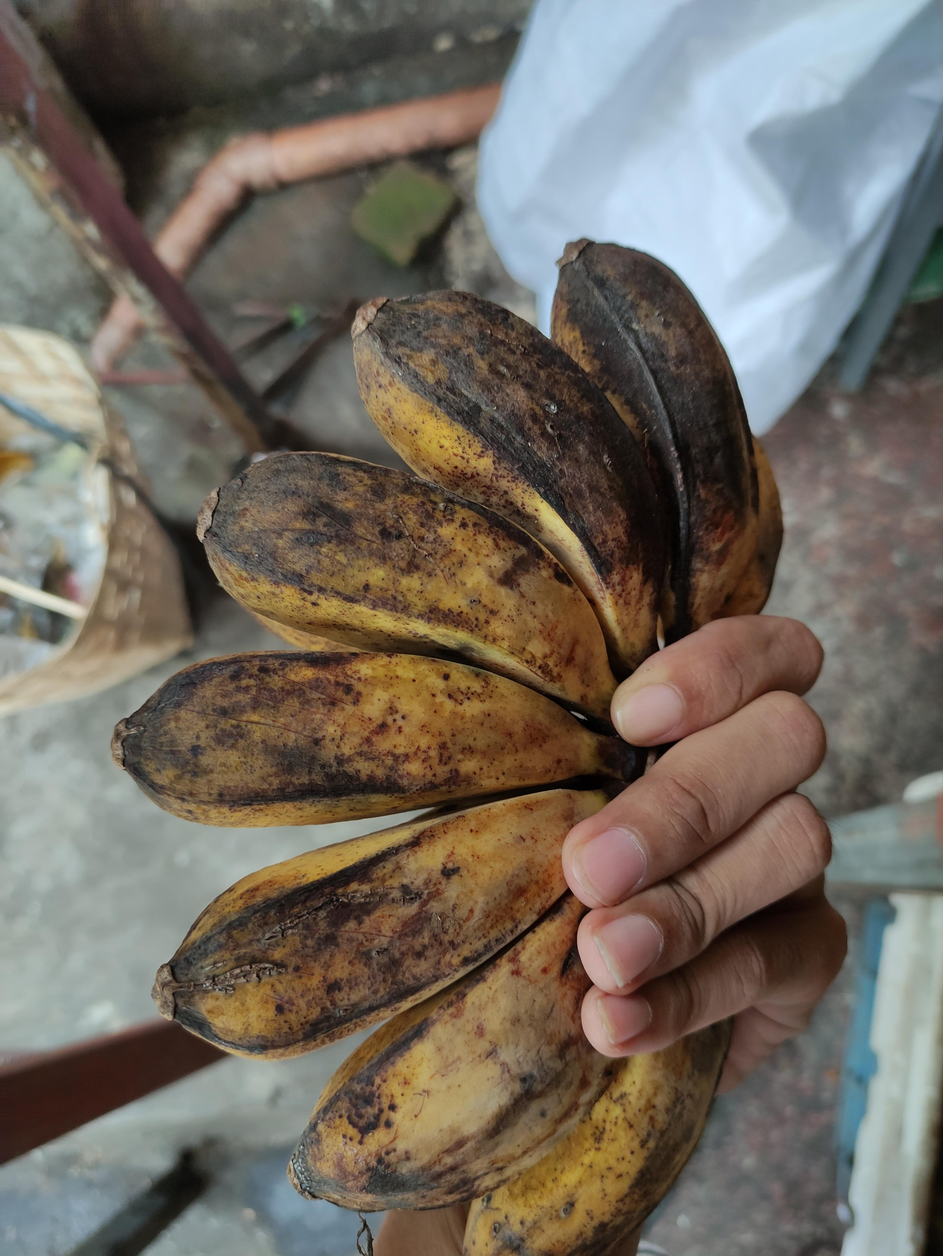ripe: (112, 240, 782, 1256)
